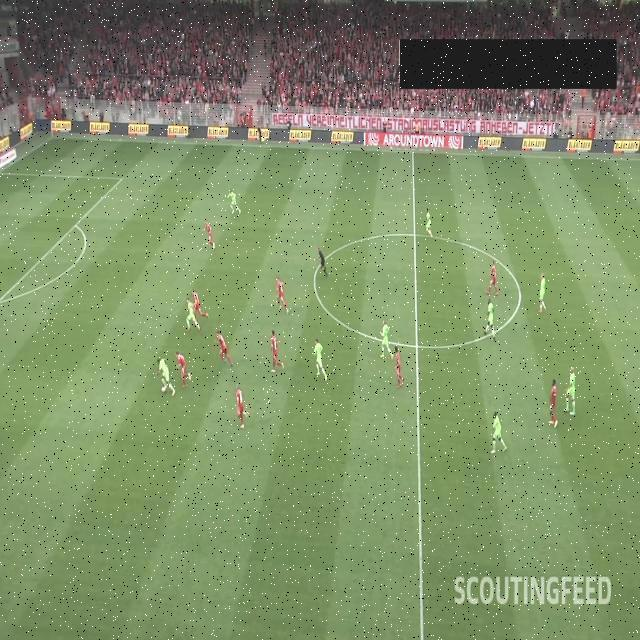Ball: (161, 386, 166, 394)
Corner: (40, 93, 59, 146)
Referee: (316, 246, 328, 278), (256, 125, 264, 145)
TEAM 1: (191, 290, 209, 334), (214, 328, 233, 366), (174, 350, 190, 388), (275, 276, 289, 314), (270, 330, 282, 372), (236, 384, 247, 428), (486, 260, 498, 296), (202, 220, 216, 250), (394, 346, 404, 388), (550, 378, 558, 428)
TEAM 2: (156, 358, 177, 397), (490, 411, 508, 454), (314, 338, 328, 382), (185, 296, 201, 334), (564, 366, 576, 416), (380, 318, 394, 359), (484, 298, 496, 342), (227, 188, 241, 216), (538, 272, 546, 314), (425, 208, 433, 238)
